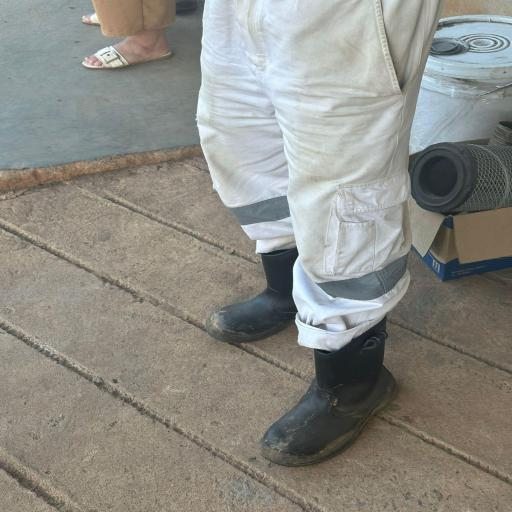Safety-shoes: (259, 319, 400, 469), (206, 242, 300, 339)
